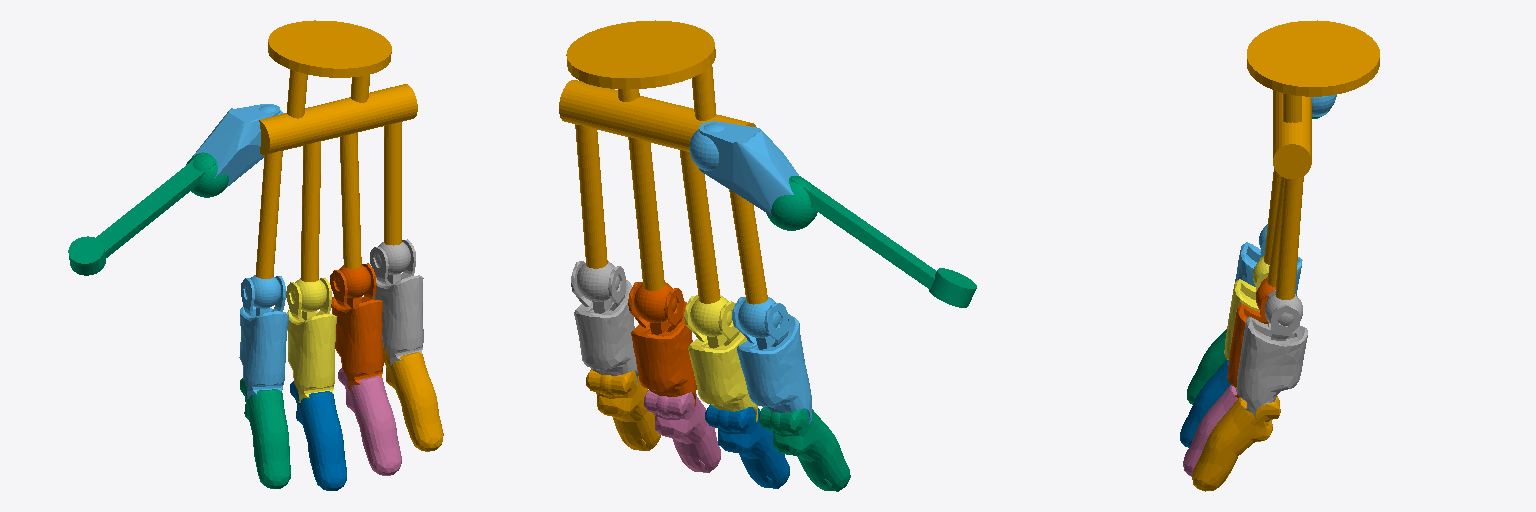
robot.urdf — ability_hand:
<!--
	NOTES:
	Units:
		Distance: m
		Angles: rad (only option)
		Mass: kg
		Inertia: kg*m^2
		
	Notes on intertia:
		-The inertias are calculated for uniform density with weights that may or may not be accurate.
		At the time of this writing only the thumb flexor weight is correct. The palm is a 'best guess' 
		approximation and the fingers are likely off by an order of magnitude
	
	Notes on finger q2:
		-The hand is a 4 bar linkage mechanism forming an 'X'. 4 bar linkages are not supported in the 
		urdf format. The motion of the second finger joint is fully defined by the motion of the first 
		finger joint. The calculation to find the index finger second joint angle given the first is provided
		in a matlab script elsewhere in this repository.
-->
<robot name="ability_hand">

	<link name="base" >
		<inertial>
			<mass value = "0.400"/>
			<inertia ixx="978.26e-6" ixy = "87.34e-6" ixz = "322.99e-6" iyy = "1244.78e-6" iyz = "244.74e-6" izz = "456.22e-6" />
			<origin xyz = "22.41911e-3 -0.15798201e-3 -0.01319866e-3" rpy = "0 0 0"/>
		</inertial>
				
		<!--WristPlateBone-->
		<visual>
			<origin xyz = "27.412417e-3 -0.454432e-3 26.510489e-3" rpy = "0.006361 -0.088345 3.069623" />
			<geometry>
				<cylinder length = "3.9e-3" radius = "24.05e-3"/>
			</geometry>
		</visual>
		<!--Wrist Bone 2-->
		<visual>
			<origin xyz = "36.796220e-3 -8.001000e-3 12.124025e-3" rpy = "-3.086612 -0.059956 2.398653" />
			<geometry>
				<cylinder length = "25.000660e-3" radius = "3.500000e-3" />
			</geometry>
		</visual>
		<!--Wrist Bone-->
		<visual>
			<origin xyz = "8.509640e-3 -8.001000e-3 14.636040e-3" rpy = "-0.059614 0.065548 -0.738965" />
			<geometry>
				<cylinder length = "25.000001e-3" radius = "3.500000e-3" />
			</geometry>
		</visual>
		<!--Bar Bone-->
		<visual>
			<origin xyz = "25.349180e-3 -8.001000e-3 0.000000e-3" rpy = "1.570796 -0.785398 -1.570796" />
			<geometry>
				<cylinder length = "66.000000e-3" radius = "7.00000e-3" />
			</geometry>
		</visual>
		<!--Pinky Bone-->
		<visual>
			<origin xyz = "50.889805e-3 -8.753450e-3 -29.632815e-3" rpy = "-0.076208 -0.019754 -0.799369" />
			<geometry>
				<cylinder length = "67.000008e-3" radius = "3.500000e-3" />
			</geometry>
		</visual>
		<!--Ringbone Bone-->
		<visual>
			<origin xyz = "31.064135e-3 -10.290505e-3 -34.034900e-3" rpy = "-0.103572 -0.064539 -0.831114" />
			<geometry>
				<cylinder length = "67.000202e-3" radius = "3.500000e-3" />
			</geometry>
		</visual>
		<!--Middlebone Bone-->
		<visual>
			<origin xyz = "12.268540e-3 -12.148345e-3 -34.606210e-3" rpy = "-0.122139 -0.012729 -0.794400" />
			<geometry>
				<cylinder length = "67.000001e-3" radius = "3.500000e-3" />
			</geometry>
		</visual>
		<!--Index Bone-->
		<visual>
			<origin xyz = "-5.830855e-3 -10.981725e-3 -33.241905e-3" rpy = "-0.133914 0.042071 -0.755627" />
			<geometry>
				<cylinder length = "59.999993e-3" radius = "3.500000e-3" />
			</geometry>
		</visual>
		
		<visual>
			<origin rpy = "0 0 0" xyz = "0 0 0"/>
			<geometry>
				<mesh filename="meshes/FB_palm_ref.STL"/>
			</geometry>
		</visual>		
	</link>
	
	
	
	<link name="index_L1" >
		<inertial>
			<mass value = "0.00635888"/>
			<inertia ixx="0.29766e-6" ixy = "-0.06447133e-6" ixz = "-0.00423315e-6" iyy = "3.6947967e-6" iyz = "0.00083028e-6" izz = "3.8176336e-6" />
			<origin xyz = "22.41911e-3 -0.15798201e-3 -0.01319866e-3" rpy = "0 0 0"/>
		</inertial>
		<visual>
			<origin xyz = "0 0 0" rpy = "0 0 0"/>
			<geometry>
				<!--<cylinder length="8" radius="7"/>-->
				<sphere radius = "7e-3"/>
			</geometry>
		</visual>
		<visual>
			<origin xyz = "19.23500e-3 1.62500e-3 0" rpy = "0 0 0.084474"/>
			<geometry>	
				<box size = "38.6070382e-3 4e-3 4e-3"/>
			</geometry>
		</visual>
		<visual>
			<origin xyz = "38.472723e-3 3.257695e-3 0.000000" rpy = "0 0 0.084474"/>
			<geometry>
				<mesh filename="meshes/idx-F1.STL"/>
			</geometry>
		</visual>
	</link>
	<link name="index_L2" >
		<inertial>
			<mass value = "0.00645"/>
			<inertia ixx="0.82671e-6" ixy = "-1.08876e-6" ixz = "-0.00037e-6" iyy = "1.98028e-6" iyz = "0.00081e-6" izz = "2.64638e-6" />
			<origin rpy = "0 0 0" xyz = "13.36818e-3 -8.75392e-3 -0.02886e-3"/>
		</inertial>		
		<visual>
			<origin xyz = "0 0 0" rpy = "0 0 0"/>
			<geometry>
				<sphere radius = "5e-3"/>
			</geometry>
		</visual>
		<visual>
			<origin xyz = "15.5333e-3 -8.501e-3 0" rpy = "0 0 -0.500734962"/>
			<geometry>	
				<box size = "35.41e-3 4e-3 4e-3"/>
			</geometry>
		</visual>
		<visual>
			<origin xyz = "29.159500e-3 -11.643970e-3 -0.148280e-3" rpy = "1.5708 0 -0.420107"/>
			<geometry>
				<cylinder length = "3e-3" radius = "4e-3"/>
			</geometry>
		</visual>
		<visual>
			<origin rpy = "0 0 0" xyz = "9.1241e-3 0 0"/>
			<geometry>
				<mesh filename="meshes/idx-F2.STL"/>
			</geometry>
		</visual>
	</link>
	<joint name="index_q1" type="revolute">
		<parent link="base"/>
		<child link="index_L1"/>
		<origin xyz = "-9.49e-3 -13.04e-3 -62.95e-3" rpy = "-1.982050 1.284473 -2.090591" />
		<axis xyz="0 0 1"/>
		<limit lower = "0" upper = "2.0943951" effort = "0.20" velocity = "8.0677777442"/>		<!-- angles in rad, efforts in N-m, velocity in rad/s -->
		<dynamics damping = "0.001" friction = "0.001" />	<!-- Friction coefficient is not from quantitative measurement -->
	</joint>
	<joint name="index_q2" type="revolute">
		<parent link="index_L1"/>
		<child link="index_L2"/>
		<origin xyz = "38.472723e-3 3.257695e-3 0.000000e-3" rpy = "0 0 0.084474"/>
		<axis xyz="0 0 1"/>
		<limit lower = "0.0" upper = "2.6586" effort = "0.20" velocity = "8.0677777442"/>		<!-- angles in rad, efforts in N-m, velocity in rad/s -->
		<dynamics damping = "0.001" friction = "0.001" />	<!-- Friction coefficient is not from quantitative measurement -->
	</joint>
	
	

	<link name="middle_L1" >
		<inertial>
			<mass value = "0.00635888"/>
			<inertia ixx="0.29766e-6" ixy = "-0.06447133e-6" ixz = "-0.00423315e-6" iyy = "3.6947967e-6" iyz = "0.00083028e-6" izz = "3.8176336e-6" />
			<origin xyz = "22.41911e-3 -0.15798201e-3 -0.01319866e-3" rpy = "0 0 0"/>
		</inertial>
		<visual>
			<origin xyz = "0 0 0" rpy = "0 0 0"/>
			<geometry>
				<!--<cylinder length="8" radius="7"/>-->
				<sphere radius = "7e-3"/>
			</geometry>
		</visual>
		<visual>
			<origin xyz = "19.23500e-3 1.62500e-3 0" rpy = "0 0 0.084474"/>
			<geometry>	
				<box size = "38.6070382e-3 4e-3 4e-3"/>
			</geometry>
		</visual>
		
		<visual>
			<origin xyz = "38.472723e-3 3.257695e-3 0.000000" rpy = "0 0 0.084474"/>
			<geometry>
				<mesh filename="meshes/idx-F1.STL"/>
			</geometry>
		</visual>
		
	</link>
	<link name="middle_L2" >
		<inertial>
			<mass value = "0.00645"/>
			<inertia ixx="0.82671e-6" ixy = "-1.08876e-6" ixz = "-0.00037e-6" iyy = "1.98028e-6" iyz = "0.00081e-6" izz = "2.64638e-6" />
			<origin rpy = "0 0 0" xyz = "13.36818e-3 -8.75392e-3 -0.02886e-3"/>
		</inertial>
		<visual>
			<origin xyz = "0 0 0" rpy = "0 0 0"/>
			<geometry>
				<sphere radius = "5e-3"/>
			</geometry>
		</visual>
		<visual>
			<origin xyz = "15.5333e-3 -8.501e-3 0" rpy = "0 0 -0.500734962"/>
			<geometry>	
				<box size = "35.41e-3 4e-3 4e-3"/>
			</geometry>
		</visual>
		<visual>
			<origin xyz = "29.159500e-3 -11.643970e-3 -0.148280e-3" rpy = "1.5708 0 -0.420107"/>
			<geometry>
				<cylinder length = "3e-3" radius = "4e-3"/>
			</geometry>
		</visual>
		<visual>
			<origin rpy = "0 0 0" xyz = "9.1241e-3 0 0"/>
			<geometry>
				<mesh filename="meshes/idx-F2.STL"/>
			</geometry>
		</visual>
	</link>
	<joint name="middle_q1" type="revolute">
		<parent link="base"/>
		<child link="middle_L1"/>
		<origin xyz = "9.653191e-3 -15.310271e-3 -67.853949e-3" rpy = "-1.860531 1.308458 -1.896217" />
		<limit lower = "0" upper = "2.0943951" effort = "0.20" velocity = "8.0677777442"/>		<!-- angles in rad, efforts in N-m, velocity in rad/s -->
		<dynamics damping = "0.001" friction = "0.001" />	<!-- Friction coefficient is not from quantitative measurement -->
		<axis xyz="0 0 1"/>
	</joint>
	<joint name="middle_q2" type="revolute">
		<parent link="middle_L1"/>
		<child link="middle_L2"/>
		<origin xyz = "38.472723e-3 3.257695e-3 0.000000" rpy = "0 0 0.084474"/>
		<axis xyz="0 0 1"/>
		<limit lower = "0.0" upper = "2.6586" effort = "0.20" velocity = "8.0677777442"/>		<!-- angles in rad, efforts in N-m, velocity in rad/s -->
		<dynamics damping = "0.001" friction = "0.001" />	<!-- Friction coefficient is not from quantitative measurement -->
	</joint>





	<link name="ring_L1" >
		<inertial>
			<mass value = "0.00635888"/>
			<inertia ixx="0.29766e-6" ixy = "-0.06447133e-6" ixz = "-0.00423315e-6" iyy = "3.6947967e-6" iyz = "0.00083028e-6" izz = "3.8176336e-6" />
			<origin xyz = "22.41911e-3 -0.15798201e-3 -0.01319866e-3" rpy = "0 0 0"/>
		</inertial>
		<visual>
			<origin xyz = "0 0 0" rpy = "0 0 0"/>
			<geometry>
				<sphere radius = "7e-3"/>
				<!--<cylinder length="8" radius="7"/>-->
			</geometry>
		</visual>
		<visual>
			<origin xyz = "19.23500e-3 1.62500e-3 0" rpy = "0 0 0.084474"/>
			<geometry>	
				<box size = "38.6070382e-3 4e-3 4e-3"/>
			</geometry>
		</visual>
		
		<visual>
			<origin xyz = "38.472723e-3 3.257695e-3 0.000000" rpy = "0 0 0.084474"/>
			<geometry>
				<mesh filename="meshes/idx-F1.STL"/>
			</geometry>
		</visual>
		
		
	</link>
	<link name="ring_L2" >
		<inertial>
			<mass value = "0.00645"/>
			<inertia ixx="0.82671e-6" ixy = "-1.08876e-6" ixz = "-0.00037e-6" iyy = "1.98028e-6" iyz = "0.00081e-6" izz = "2.64638e-6" />
			<origin rpy = "0 0 0" xyz = "13.36818e-3 -8.75392e-3 -0.02886e-3"/>
		</inertial>
		<visual>
			<origin xyz = "0 0 0" rpy = "0 0 0"/>
			<geometry>
				<sphere radius = "5e-3"/>
			</geometry>
		</visual>
		<visual>
			<origin xyz = "15.5333e-3 -8.501e-3 0" rpy = "0 0 -0.500734962"/>
			<geometry>	
				<box size = "35.41e-3 4e-3 4e-3"/>
			</geometry>
		</visual>
		<visual>
			<origin xyz = "29.159500e-3 -11.643970e-3 -0.148280e-3" rpy = "1.5708 0 -0.420107"/>
			<geometry>
				<cylinder length = "3e-3" radius = "4e-3"/>
			</geometry>
		</visual>
		
		<visual>
			<origin rpy = "0 0 0" xyz = "9.1241e-3 0 0"/>
			<geometry>
				<mesh filename="meshes/idx-F2.STL"/>
			</geometry>
		</visual>
		
	</link>
	<joint name="ring_q1" type="revolute">
		<parent link="base"/>
		<child link="ring_L1"/>
		<origin xyz = "29.954260e-3 -14.212492e-3 -67.286105e-3" rpy = "-1.716598 1.321452 -1.675862" />
		<limit lower = "0" upper = "2.0943951" effort = "0.20" velocity = "8.0677777442"/>		<!-- angles in rad, efforts in N-m, velocity in rad/s -->
		<dynamics damping = "0.001" friction = "0.001" />	<!-- Friction coefficient is not from quantitative measurement -->
		<axis xyz="0 0 1"/>
	</joint>
	<joint name="ring_q2" type="revolute">
		<parent link="ring_L1"/>
		<child link="ring_L2"/>
		<origin xyz = "38.472723e-3 3.257695e-3 0.000000" rpy = "0 0 0.084474"/>
		<axis xyz="0 0 1"/>
		<limit lower = "0.0" upper = "2.6586" effort = "0.20" velocity = "8.0677777442"/>		<!-- angles in rad, efforts in N-m, velocity in rad/s -->
		<dynamics damping = "0.001" friction = "0.001" />	<!-- Friction coefficient is not from quantitative measurement -->
	</joint>








	<link name="pinky_L1" >
		<inertial>
			<mass value = "0.00635888"/>
			<inertia ixx="0.29766e-6" ixy = "-0.06447133e-6" ixz = "-0.00423315e-6" iyy = "3.6947967e-6" iyz = "0.00083028e-6" izz = "3.8176336e-6" />
			<origin xyz = "22.41911e-3 -0.15798201e-3 -0.01319866e-3" rpy = "0 0 0"/>
		</inertial>
		<visual>
			<origin xyz = "0 0 0" rpy = "0 0 0"/>
			<geometry>
				<sphere radius = "7e-3"/>
			</geometry>
		</visual>
		<visual>
			<origin xyz = "19.23500e-3 1.62500e-3 0" rpy = "0 0 0.084474"/>
			<geometry>	
				<box size = "38.6070382e-3 4e-3 4e-3"/>
			</geometry>
		</visual>
		
		<visual>
			<origin xyz = "38.472723e-3 3.257695e-3 0.000000" rpy = "0 0 0.084474"/>
			<geometry>
				<mesh filename="meshes/idx-F1.STL"/>
			</geometry>
		</visual>
		
	</link>
	<link name="pinky_L2" >
		<inertial>
			<mass value = "0.00645"/>
			<inertia ixx="0.82671e-6" ixy = "-1.08876e-6" ixz = "-0.00037e-6" iyy = "1.98028e-6" iyz = "0.00081e-6" izz = "2.64638e-6" />
			<origin rpy = "0 0 0" xyz = "13.36818e-3 -8.75392e-3 -0.02886e-3"/>
		</inertial>
		<visual>
			<origin xyz = "0 0 0" rpy = "0 0 0"/>
			<geometry>
				<sphere radius = "5e-3"/>
			</geometry>
		</visual>
		<visual>
			<origin xyz = "15.5333e-3 -8.501e-3 0" rpy = "0 0 -0.500734962"/>
			<geometry>	
				<box size = "35.41e-3 4e-3 4e-3"/>
			</geometry>
		</visual>
		<visual>
			<origin xyz = "29.159500e-3 -11.643970e-3 -0.148280e-3" rpy = "1.5708 0 -0.420107"/>
			<geometry>
				<cylinder length = "3e-3" radius = "4e-3"/>
			</geometry>
		</visual>
		
		<visual>
			<origin rpy = "0 0 0" xyz = "9.1241e-3 0 0"/>
			<geometry>
				<mesh filename="meshes/idx-F2.STL"/>
			</geometry>
		</visual>
		
	</link>
	<joint name="pinky_q1" type="revolute">
		<parent link="base"/>
		<child link="pinky_L1"/>
		<origin xyz = "49.521293e-3 -11.004583e-3 -63.029065e-3" rpy = "-1.765110 1.322220 -1.658383" />
		<limit lower = "0" upper = "2.0943951" effort = "0.20" velocity = "8.0677777442"/>		<!-- angles in rad, efforts in N-m, velocity in rad/s -->
		<dynamics damping = "0.001" friction = "0.001" />	<!-- Friction coefficient is not from quantitative measurement -->
		<axis xyz="0 0 1"/>
	</joint>
	<joint name="pinky_q2" type="revolute">
		<parent link="pinky_L1"/>
		<child link="pinky_L2"/>
		<origin xyz = "38.472723e-3 3.257695e-3 0.000000" rpy = "0 0 0.084474"/>
		<limit lower = "0.0" upper = "2.6586" effort = "0.20" velocity = "8.0677777442"/>		<!-- angles in rad, efforts in N-m, velocity in rad/s -->
		<dynamics damping = "0.001" friction = "0.001" />	<!-- Friction coefficient is not from quantitative measurement -->
		<axis xyz="0 0 1"/>
	</joint>






	<link name="thumb_L1" >
		<inertial>
			<mass value = "0.00268342"/>
			<inertia ixx="0.16931e-6" ixy = "-0.076214e-6" ixz = "-0.16959148e-6" iyy = "0.77769934e-6" iyz = "0.0156622e-6" izz = "0.7249122e-6" />
			<origin rpy = "0 0 0" xyz = "14.606e-3 -1.890854e-3 -3.1155356e-3"/>
		</inertial>
		<visual>
			<origin xyz = "13.851489e-3 -1.900374e-3 -6.866140e-3" rpy = "0.490960 0.456500 -0.136345" />
			<geometry>
				<box size = "31.15246724e-3 5e-3 4e-3"/>
			</geometry>
		</visual>
		<visual>
			<origin xyz = "0 0 0" rpy = "0 0 0"/>
			<geometry>
				<sphere radius = "8e-3"/>
				<!--<cylinder length = "14" radius = "7"/>-->
			</geometry>
		</visual>
		
		<visual>
			<origin xyz = "27.8283501e-3 0 -14.7507000e-3" rpy = "4.450589592585541 0 0" />
			<geometry>
				<mesh filename="meshes/thumb-F1.STL"/>
			</geometry>
		</visual>
		
	</link>
	<link name="thumb_L2" >
		<inertial>
			<mass value = "0.0055"/>
			<inertia ixx="4.4789082e-6" ixy = "4.4789082e-6" ixz = "-0.62144934e-6" iyy = "15.600996e-6" iyz = "-0.07466143e-6" izz = "17.908554e-6" />
			<origin rpy = "0 0 0" xyz = "30.020522e-3 5.59476e-3 -4.1504356e-3"/>
		</inertial>
		<visual>
			<origin xyz = "0 0 -3.93482782e-3" rpy = "0 0 0"/> <!-- rotation axis cylinder -->
			<geometry>
				<sphere radius = "8.9e-3"/>
				<!--<cylinder length = "7" radius = "8.9"/>-->
			</geometry>
		</visual>
		<visual>
			<origin xyz = "26.851927e-3 6.766622e-3 -3.934828e-3" rpy = "0.000000 -0.000000 0.462507" />
			<geometry>
				<box size = "60.93e-3 4e-3 8e-3"/>
			</geometry>
		</visual>
		<visual>
			<origin xyz = "56.730453e-3 19.890903e-3 -3.934828e-3" rpy = "1.570800 -0.000000 0.343830" />
			<geometry>
				<cylinder length = "7e-3" radius = "7e-3"/>
			</geometry>
		</visual>
		
		<visual>
			<origin xyz = "65.18669e-3 23.34021e-3 -3.93483e-3" rpy = "3.141592 0 0.343830"/>
			<geometry>
				<mesh filename="meshes/thumb-F2.STL"/>
			</geometry>
		</visual>
		
	</link>
	<joint name="thumb_q1" type="revolute">
		<parent link="base"/>
		<child link="thumb_L1"/>
		<origin xyz = "0 0 0" rpy = "0 0 3.330437"/>
		<axis xyz="0 0 1"/>
		<limit lower = "-2.0943951" upper = "0" effort = "0.20" velocity = "8.0677777442"/>		<!-- angles in rad, efforts in N-m, velocity in rad/s -->
		<dynamics damping = "0.001" friction = "0.001" />	<!-- Friction coefficient is not from quantitative measurement -->
	</joint>
	<joint name="thumb_q2" type="revolute">
		<parent link="thumb_L1"/>
		<child link="thumb_L2"/>
		<origin xyz = "27.8283501e-3 0 -14.7507000e-3" rpy = "4.450589592585541 0 0" />
		<axis xyz="0 0 1"/>
		<limit lower = "0" upper = "2.0943951" effort = "0.20" velocity = "8.0677777442"/>		<!-- angles in rad, efforts in N-m, velocity in rad/s -->
		<dynamics damping = "0.001" friction = "0.001" />	<!-- Friction coefficient is not from quantitative measurement -->		
	</joint>
</robot>

--- Facts derived from the render (not from the file) ---
3 views of the same robot in one strip: view 1: azimuth 30°, elevation 25°; view 2: azimuth 150°, elevation 25°; view 3: azimuth 270°, elevation 25° (orthographic).
Model ability_hand with 11 links and 10 joints (10 revolute), rooted at base, posed all joints at 0.
Links seen in each view (by area): view 1: base, thumb_L2, ring_L1, middle_L1, index_L1, pinky_L1, ring_L2, middle_L2, pinky_L2, index_L2, thumb_L1; view 2: base, index_L1, thumb_L1, ring_L1, thumb_L2, pinky_L1, middle_L1, index_L2, middle_L2, ring_L2, pinky_L2; view 3: base, pinky_L1, pinky_L2, middle_L2, ring_L1, ring_L2, middle_L1, index_L2, index_L1.
Boxes of the visible links, <box> form: base: <box>255,20,417,281</box>; thumb_L2: <box>68,152,228,275</box>; ring_L1: <box>330,263,383,389</box>; middle_L1: <box>286,278,336,402</box>; index_L1: <box>239,275,288,398</box>; pinky_L1: <box>370,239,423,365</box>; ring_L2: <box>338,368,401,475</box>; middle_L2: <box>290,381,346,490</box>; pinky_L2: <box>383,347,443,451</box>; index_L2: <box>240,378,290,488</box>; thumb_L1: <box>192,104,283,188</box>; base: <box>559,20,767,304</box>; index_L1: <box>732,297,811,423</box>; thumb_L1: <box>689,121,798,215</box>; ring_L1: <box>628,282,696,406</box>; thumb_L2: <box>766,176,976,307</box>; pinky_L1: <box>571,261,637,384</box>; middle_L1: <box>684,295,757,421</box>; index_L2: <box>759,407,850,491</box>; middle_L2: <box>705,404,789,488</box>; ring_L2: <box>644,390,720,472</box>; pinky_L2: <box>586,369,660,450</box>; base: <box>1247,20,1379,299</box>; pinky_L1: <box>1236,289,1307,419</box>; pinky_L2: <box>1192,396,1280,491</box>; middle_L2: <box>1180,360,1230,447</box>; ring_L1: <box>1227,277,1275,397</box>; ring_L2: <box>1183,385,1237,476</box>; middle_L1: <box>1224,256,1295,359</box>; index_L2: <box>1187,329,1226,404</box>; index_L1: <box>1235,224,1302,295</box>.
Bounding box of the posed robot: 0.1508 × 0.0719 × 0.1692 m (x, y, z).
Meshes: 5 distinct files referenced, 9 mesh visuals loaded (3 binary STL); not drawn: 2 (reference not matched to a file when rendering).